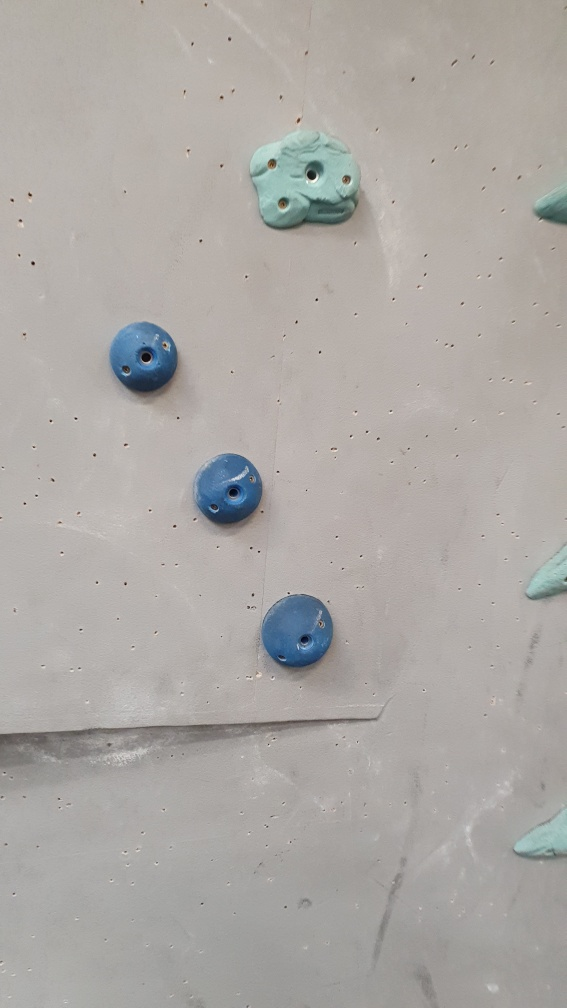Crimp: (504, 805, 567, 871), (523, 543, 567, 609)
Sloper: (253, 588, 340, 677), (105, 315, 188, 407), (192, 445, 268, 527)
